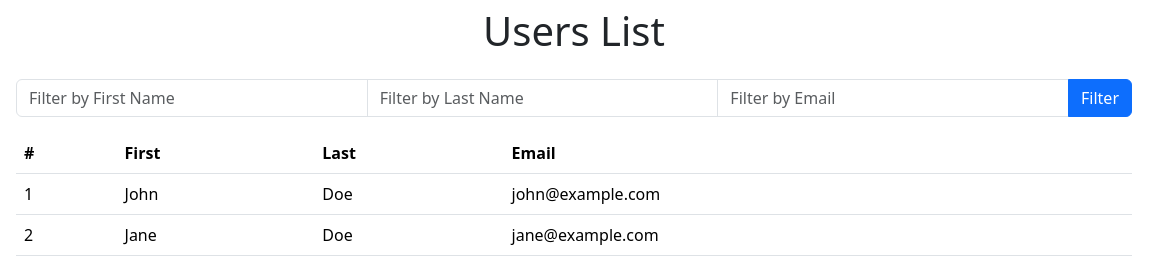
App Component › displays no records message when no users match the filter
Type "nonexistent@example.com" into the field with placeholder "Filter by Email".
click(893, 98); type("nonexistent@example.com")  # box x1=717 y1=79 x2=1069 y2=117
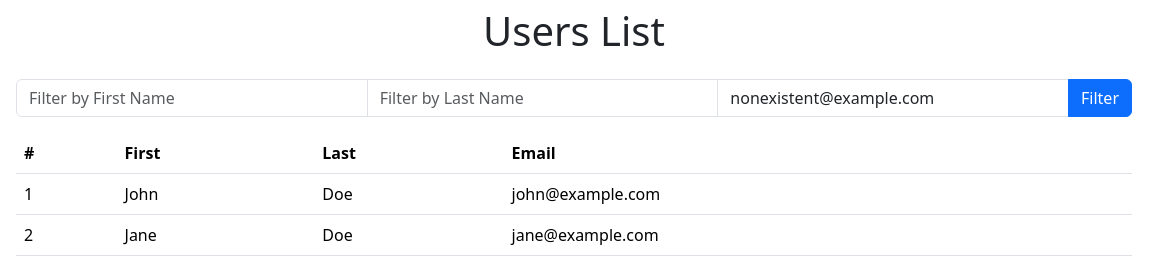
Click the button "Filter".
click(1100, 98)  # box x1=1068 y1=79 x2=1132 y2=117
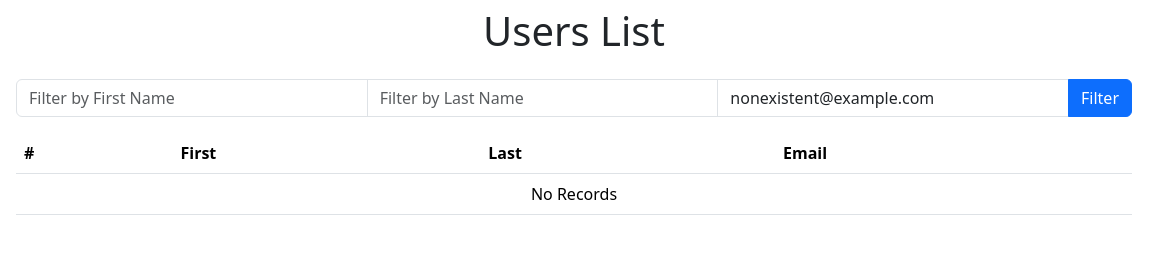
Expected: the text "No Records" is shown, x1=16 y1=174 x2=1132 y2=214
